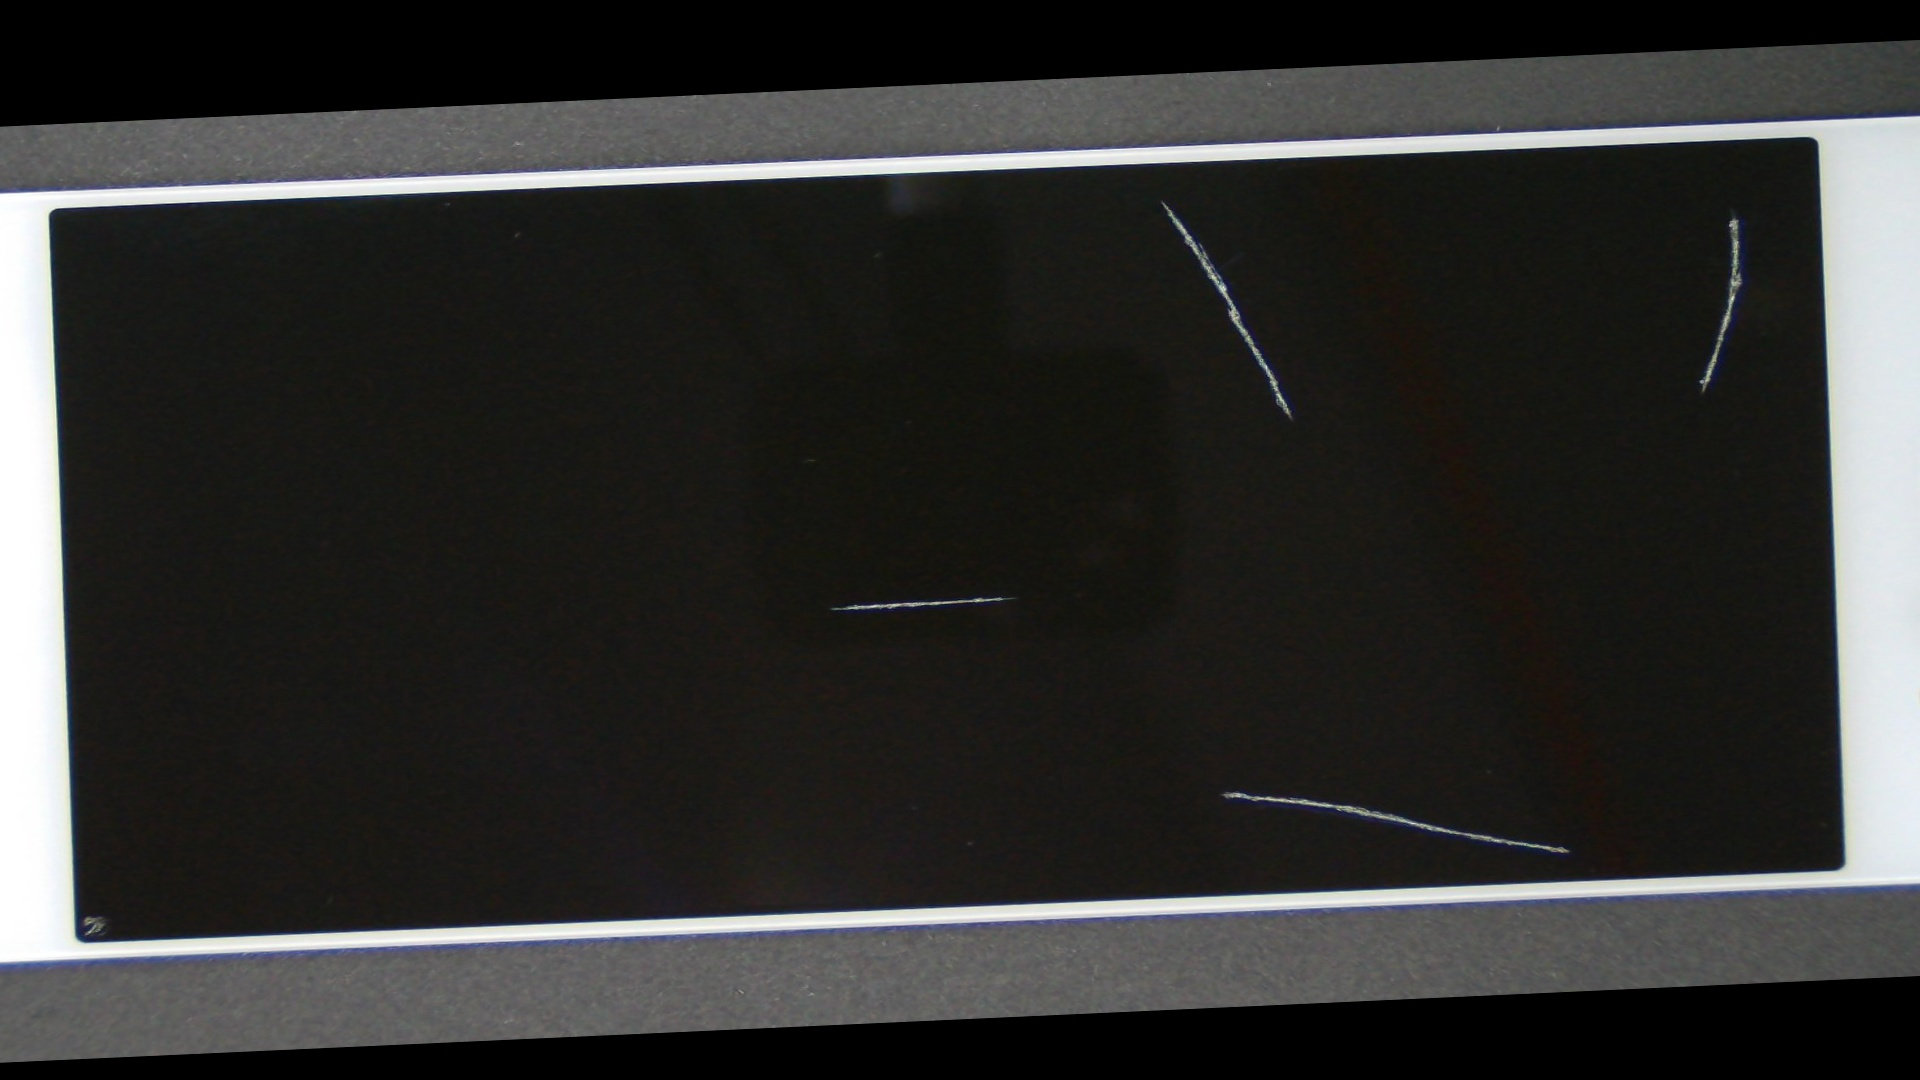oil: (517, 400, 1920, 1038), (393, 314, 1564, 881), (771, 115, 1920, 345), (484, 107, 1840, 294), (0, 513, 223, 1064)
